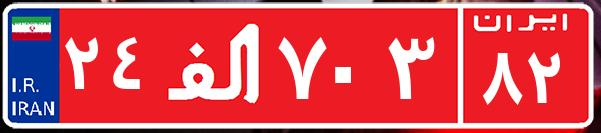0: (330, 28, 385, 110)
2: (57, 26, 110, 107), (525, 38, 570, 115)
3: (385, 28, 445, 110)
4: (110, 28, 158, 105)
7: (273, 28, 330, 110)
8: (475, 38, 525, 113)
الف: (158, 15, 273, 115)
